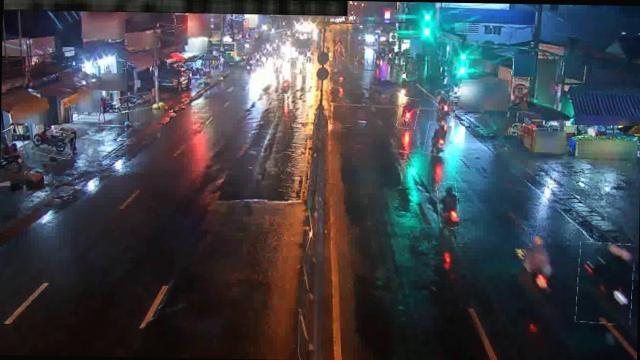Bike: (576, 242, 634, 324), (509, 228, 552, 320), (32, 127, 74, 158), (436, 182, 458, 228), (424, 122, 451, 156), (115, 92, 152, 112), (397, 97, 419, 128), (436, 88, 454, 116), (279, 74, 290, 94)
